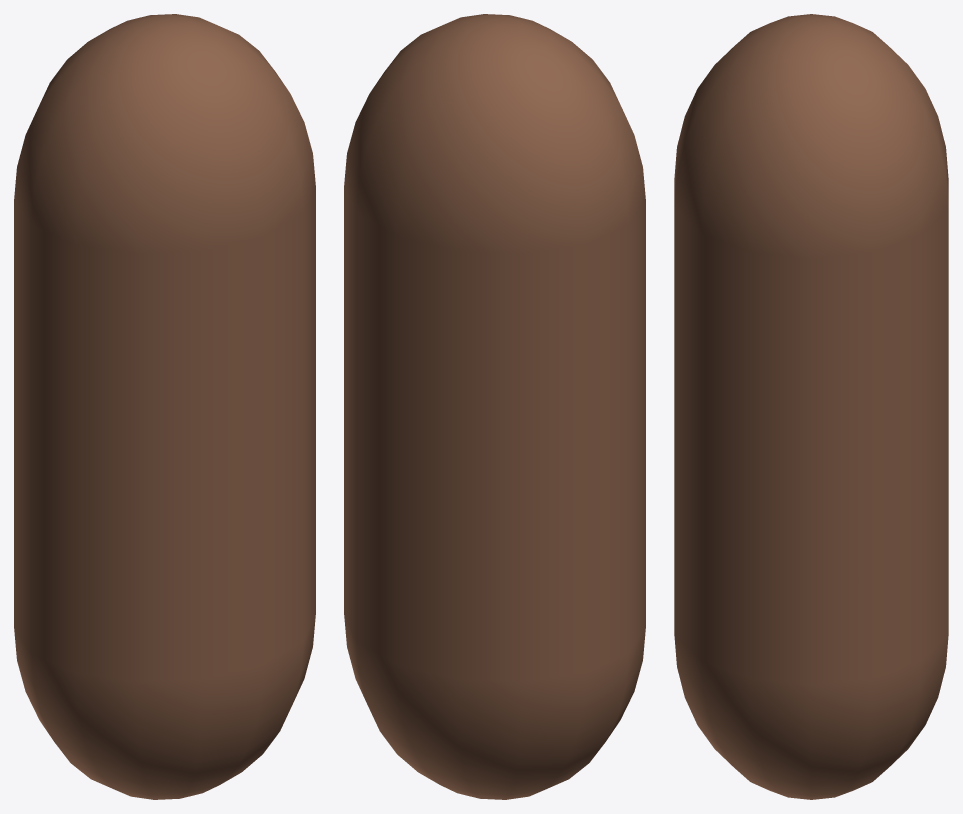
File: enemy-playground-candleback-giant-v1.glb
The picture shows the model from 3 angles, left to right: view 1: azimuth 30°, elevation 25°; view 2: azimuth 150°, elevation 25°; view 3: azimuth 270°, elevation 25°; orthographic projection.
Parts seen in each view (by area): view 1: Candleback Giant; view 2: Candleback Giant; view 3: Candleback Giant.
Part boxes in pixels (x1=…): Candleback Giant: x1=14, y1=14, x2=315, y2=799; Candleback Giant: x1=344, y1=14, x2=645, y2=799; Candleback Giant: x1=674, y1=14, x2=948, y2=799.
Bounding box in the file's own units: 3.15 × 8.63 × 2.82.
